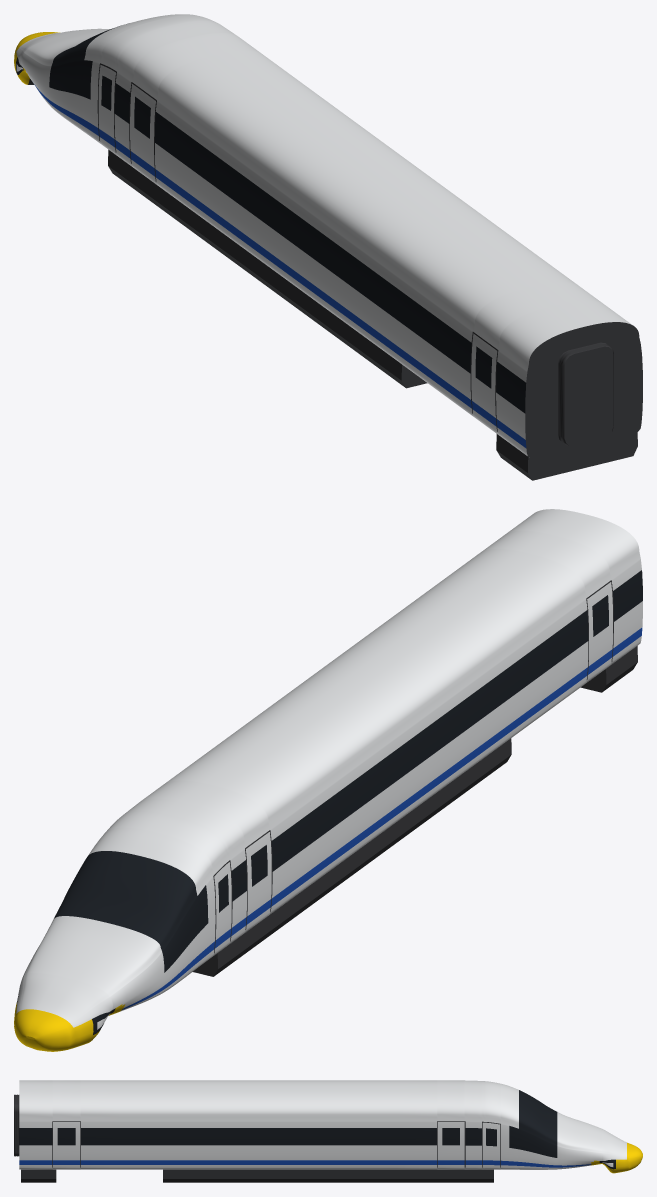
The model's file is train-cab.glb.
3 views of the same model, one above another, from view 1: azimuth 30°, elevation 25°; view 2: azimuth 150°, elevation 25°; view 3: azimuth 270°, elevation 25° (orthographic). The views are drawn at different scales.
Visible parts, largest first — view 1: cab_carriage; view 2: cab_carriage; view 3: cab_carriage.
Part boxes in pixels (x1,y1,x2,y2): cab_carriage: [14, 14, 642, 480]; cab_carriage: [14, 509, 642, 1051]; cab_carriage: [14, 1080, 642, 1182].
Size of the model in its own units: 2.8 by 3.24 by 23.
